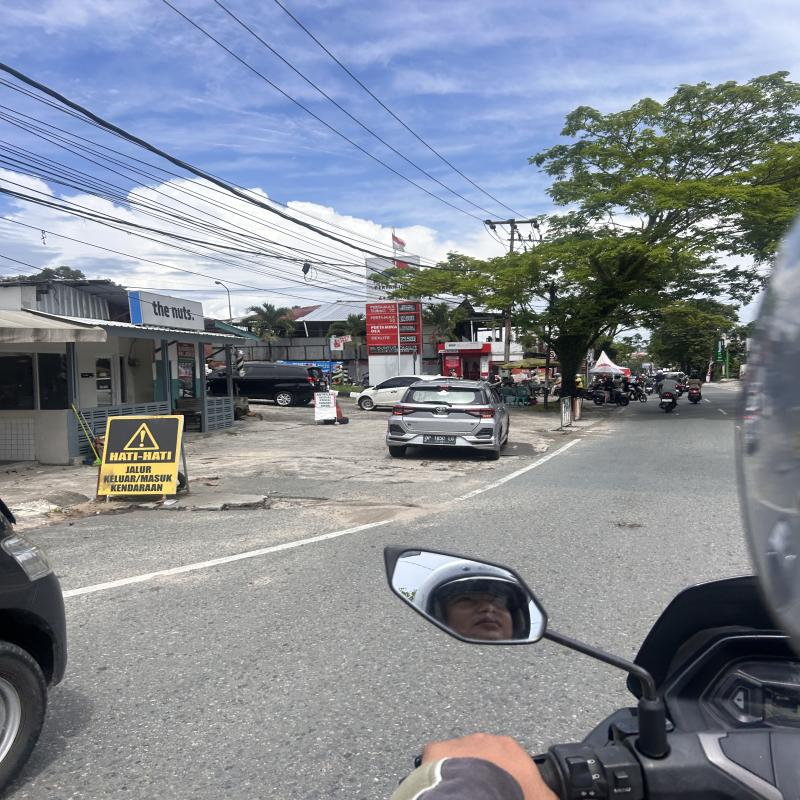license plate on a car: (423, 435, 457, 444)
